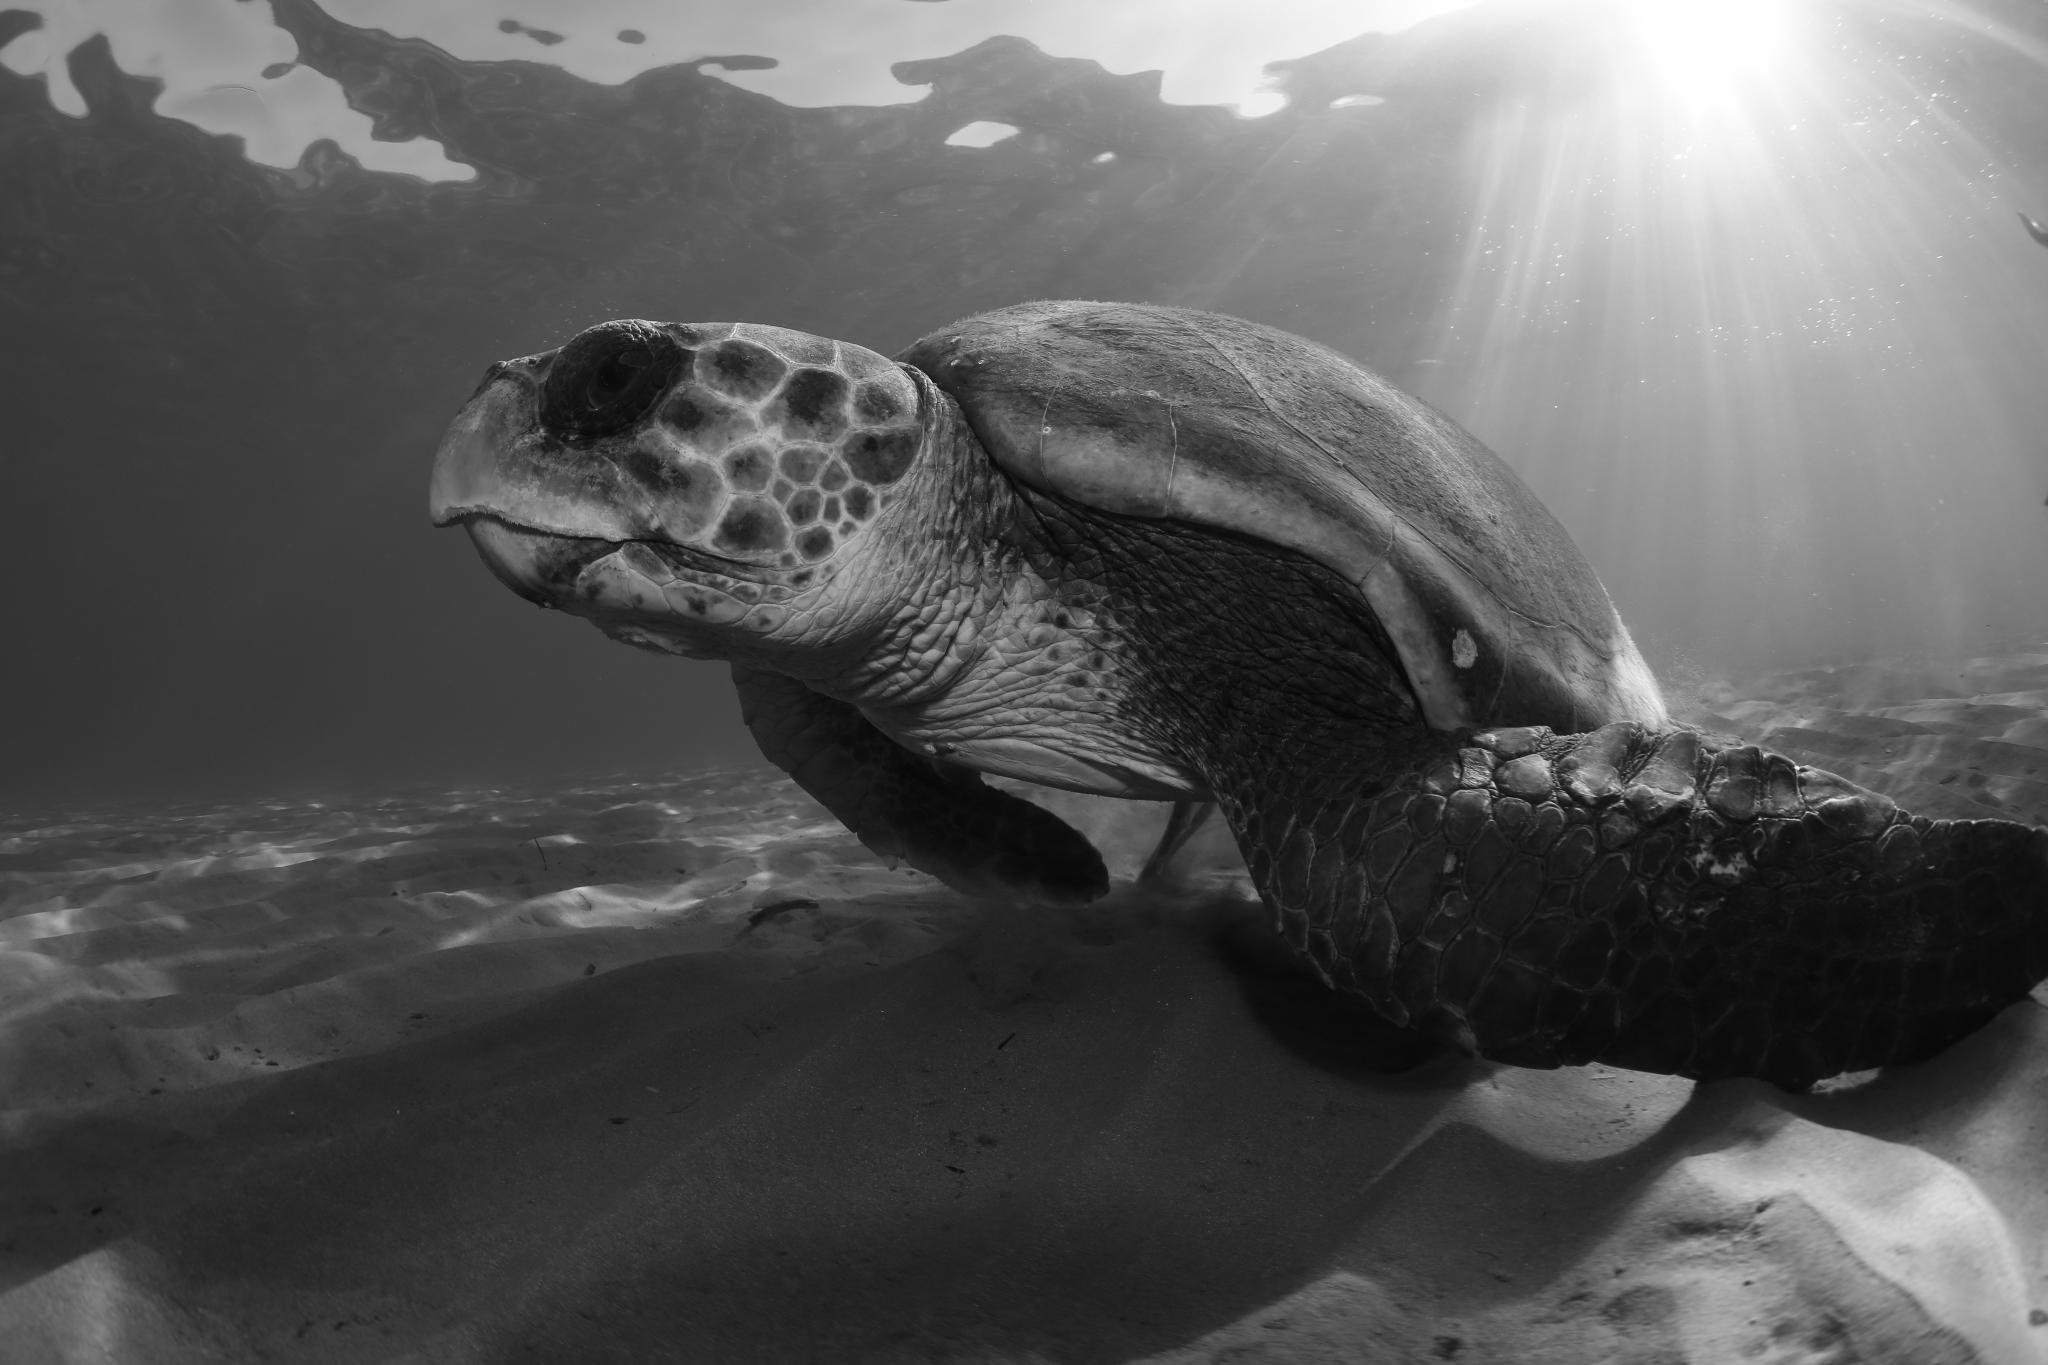Head: (431, 320, 967, 676)
